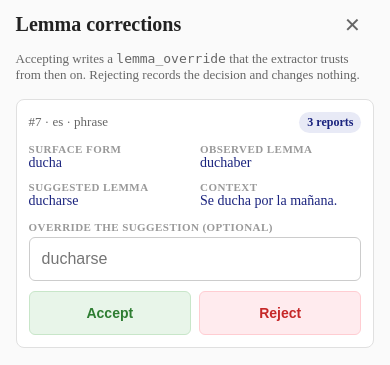
Test: AdminLemmaQueuePage › reject hits the reject endpoint and updates the row in place
This screenshot has width=390, height=365.
Click the button with test id "lemma-reject-7": (280, 313) [199,291,361,335]
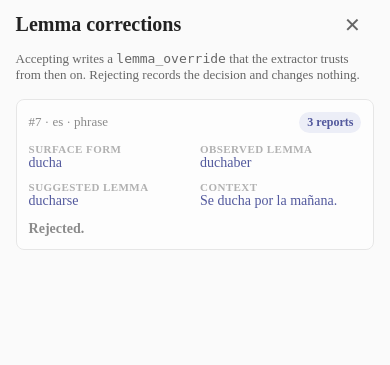
Now the text with test id "lemma-status-7" shows "Rejected", box [29,221,84,236]
